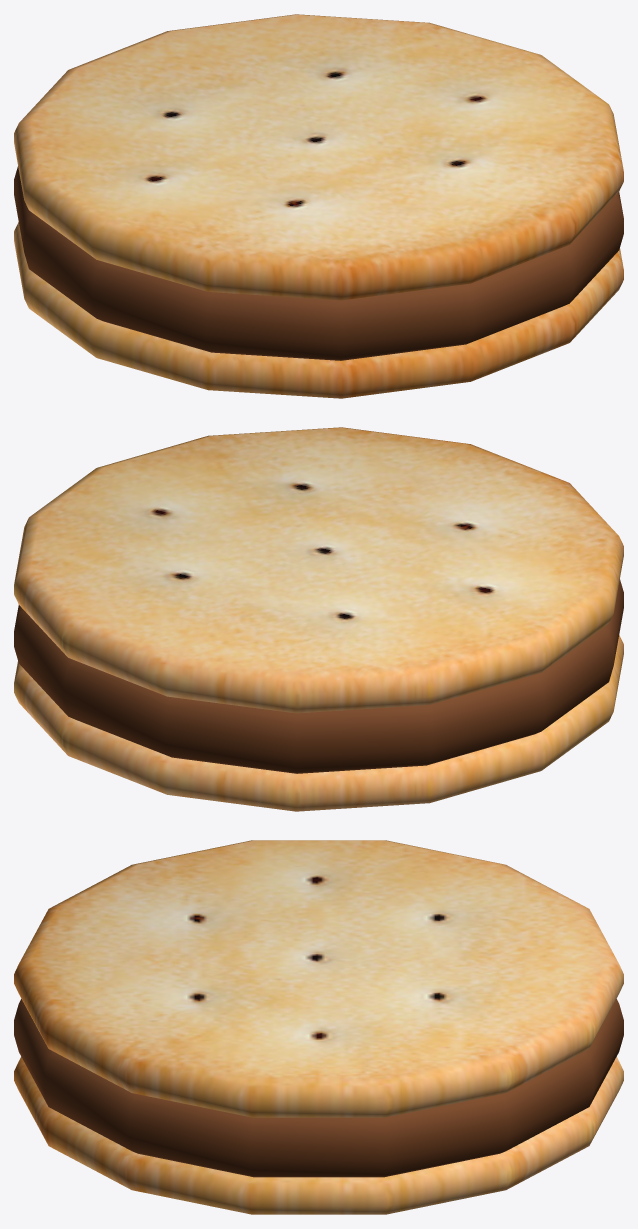
The model's file is candy_waf_20.fbx.
3 renders of one model, top to bottom at view 1: azimuth 30°, elevation 25°; view 2: azimuth 150°, elevation 25°; view 3: azimuth 270°, elevation 25°, orthographic.
Parts seen in each view (by area): view 1: c_w_20; view 2: c_w_20; view 3: c_w_20.
Boxes of the visible parts, x1,y1,x2,y2 form: c_w_20: (14,14,623,398); c_w_20: (14,427,623,811); c_w_20: (14,840,623,1214).
Size of the model in its own units: 173 by 43.55 by 177.
